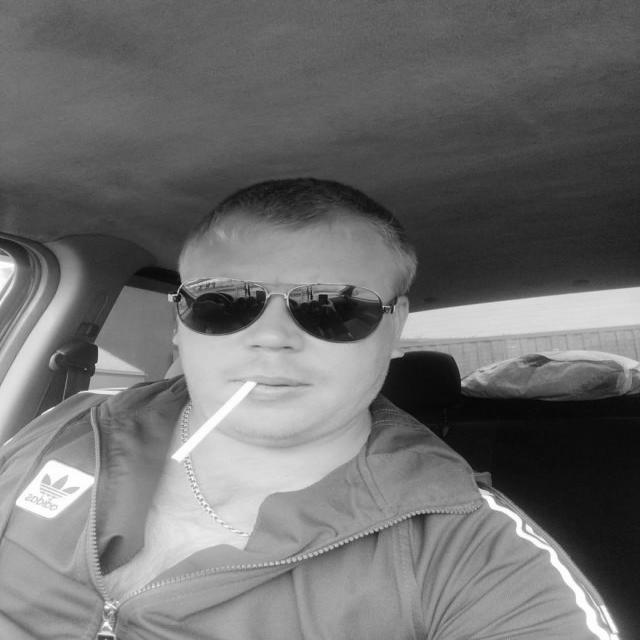Cigarette: (168, 374, 258, 469)
